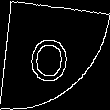O_N: (33, 26, 77, 84)
